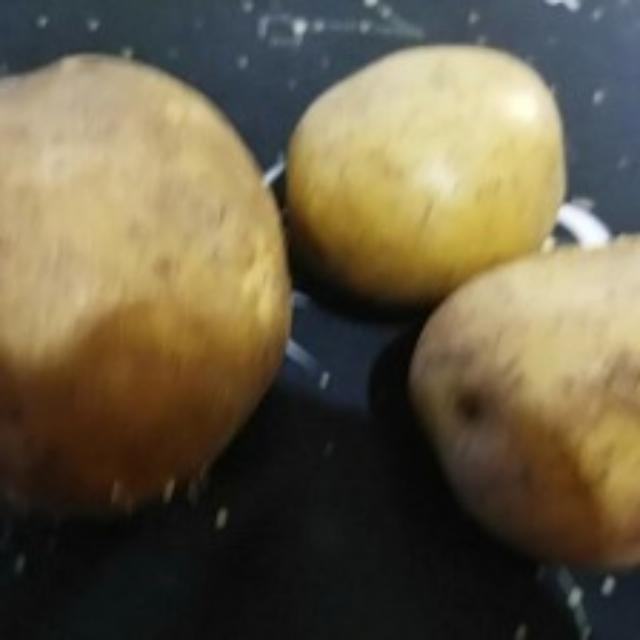Damaged potato: (1, 51, 298, 529), (406, 231, 640, 581)
Potato: (286, 36, 576, 310)
